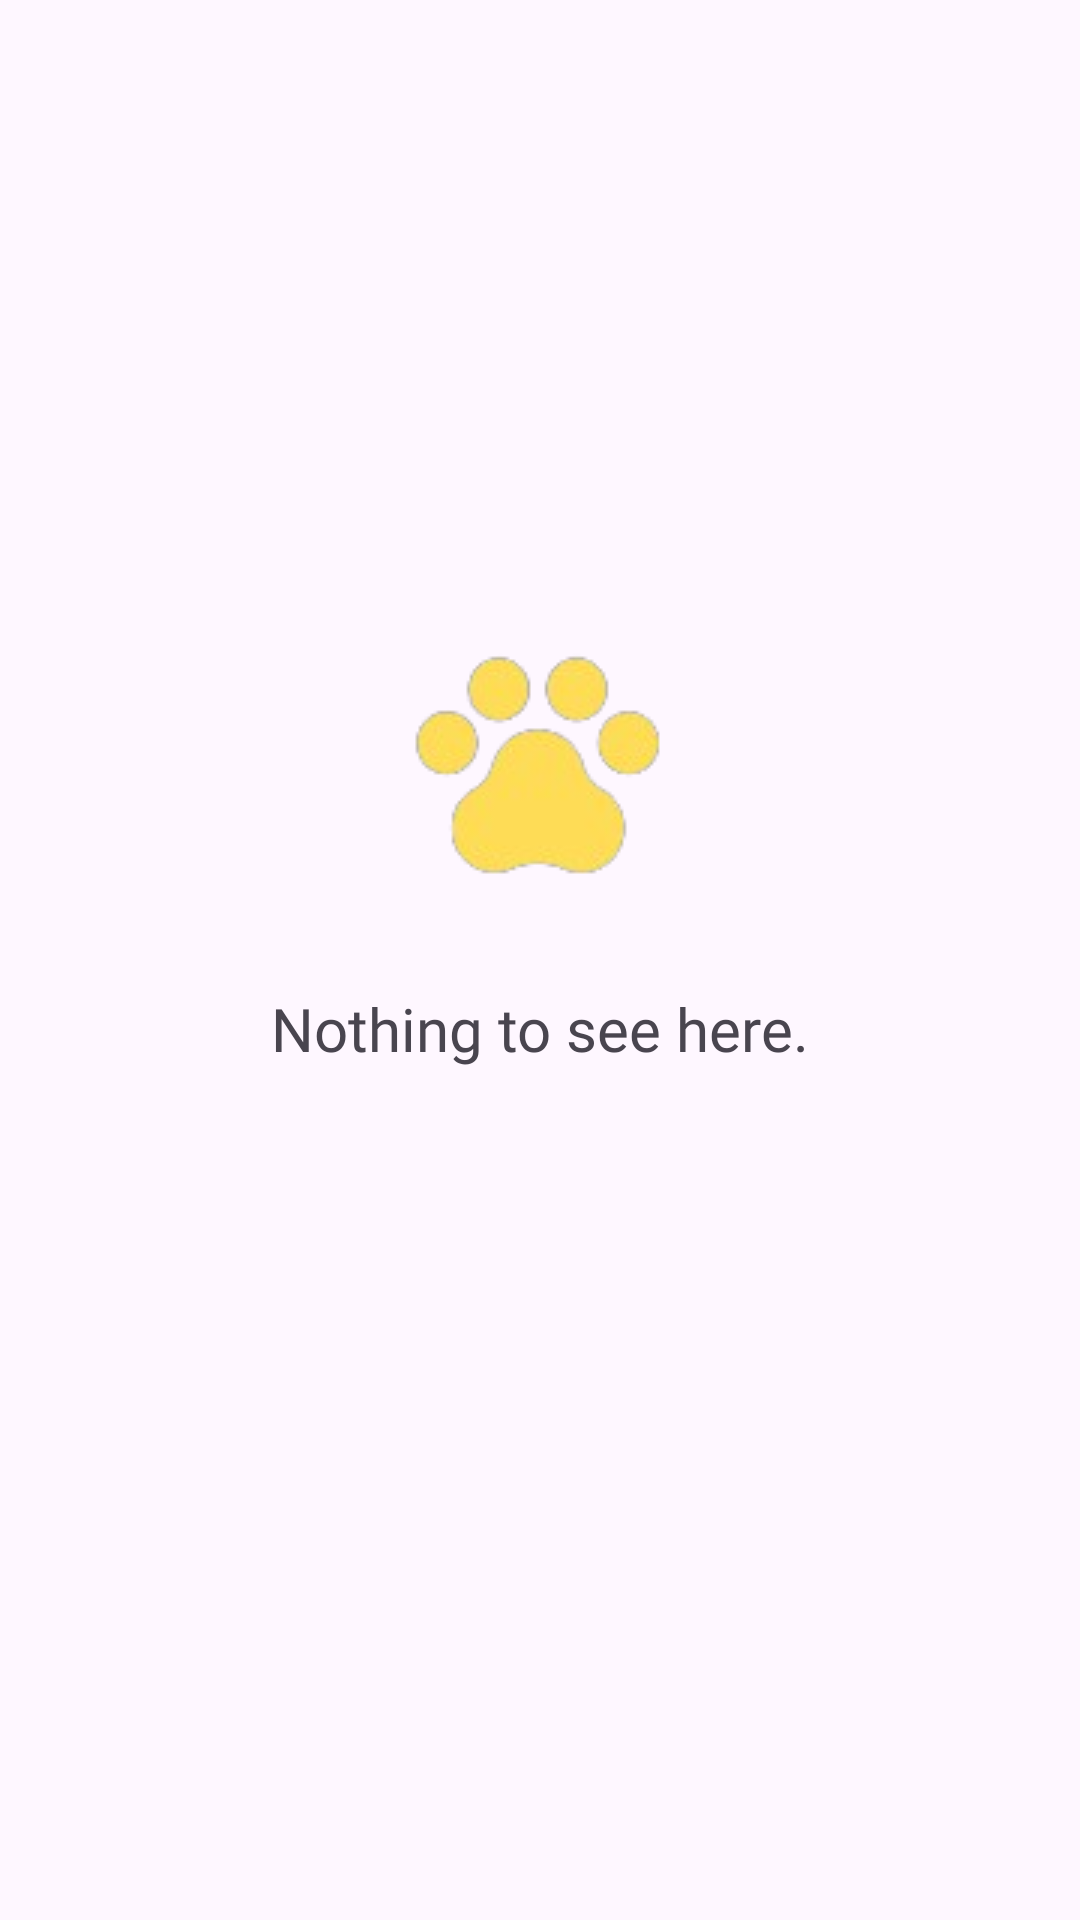

Screen size 1080 × 1920. Icon name, then its box in pixels as (x1, y1, x2, y2):
paw: (415, 656, 660, 874)
